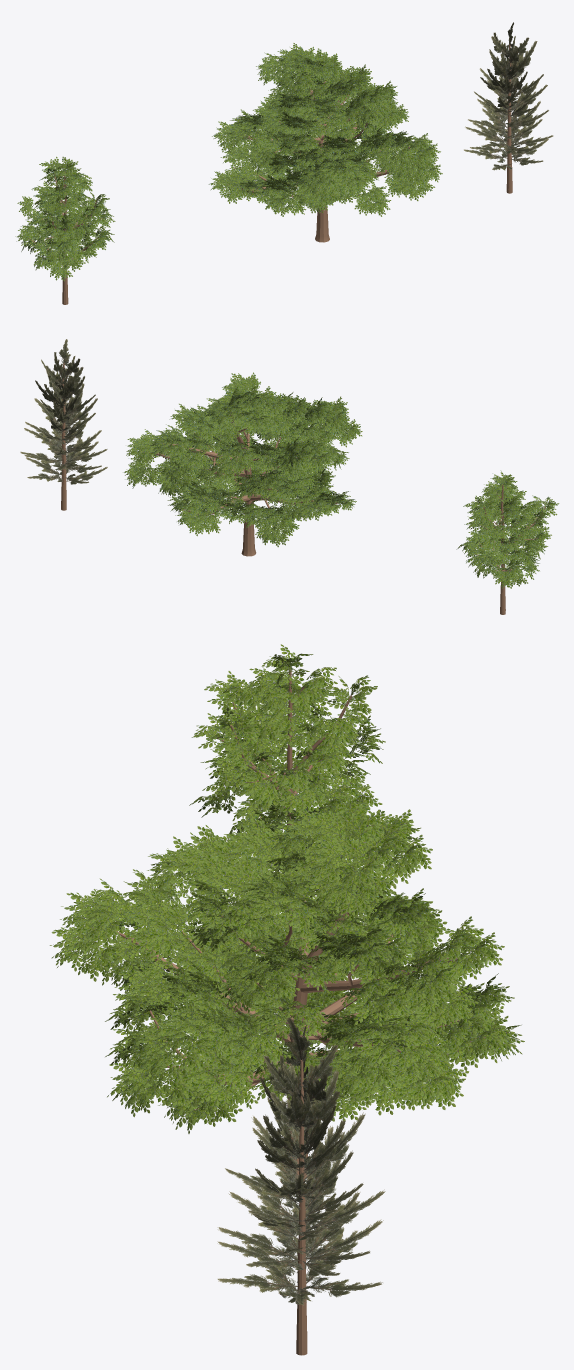
The model's file is 3 Trees Test FBX.fbx.
3 views of the same model, one above another, from view 1: azimuth 30°, elevation 25°; view 2: azimuth 150°, elevation 25°; view 3: azimuth 270°, elevation 25° (orthographic). The views are drawn at different scales.
Parts seen in each view (by area): view 1: Leaves_Large135, Large_Tree_Trunk, Leaves_Large165, Leaves_Large229, Leaves_Large190, Leaves_Large236, Leaves_Large155, Leaves_Large163, Leaves_Large178, Leaves_Large157, Leaves_Large194, Leaves_Large249 (+32 smaller); view 2: Leaves_Large135, Large_Tree_Trunk, Leaves_Large187, Leaves_Large215, Leaves_Large172, Leaves_Large166, Leaves_Large179, Leaves_Large169, Leaves_Large259, Leaves_Large260, Leaves_Large209, Leaves_Large201 (+33 smaller); view 3: Leaves_Large135, Large_Tree_Trunk, Leaves_Large200, Leaves_Large243, Leaves_Large161, Leaves_Large170, Leaves_Large166, Leaves_Large201, Leaves_Large160, Leaves_Large157, Leaves_Large218, Leaves_Large234 (+44 smaller).
Part boxes in pixels (bbox=[...]): Leaves_Large135: bbox=[15, 156, 115, 281]; Large_Tree_Trunk: bbox=[227, 63, 409, 242]; Leaves_Large165: bbox=[373, 144, 418, 177]; Leaves_Large229: bbox=[353, 182, 391, 216]; Leaves_Large190: bbox=[208, 165, 246, 203]; Leaves_Large236: bbox=[294, 182, 339, 213]; Leaves_Large155: bbox=[275, 69, 317, 95]; Leaves_Large163: bbox=[389, 173, 435, 201]; Leaves_Large178: bbox=[227, 118, 267, 149]; Leaves_Large157: bbox=[319, 155, 362, 181]; Leaves_Large194: bbox=[262, 189, 306, 216]; Leaves_Large249: bbox=[277, 132, 320, 156]; Leaves_Large135: bbox=[456, 470, 559, 588]; Large_Tree_Trunk: bbox=[144, 412, 337, 556]; Leaves_Large187: bbox=[255, 512, 299, 547]; Leaves_Large215: bbox=[213, 450, 258, 477]; Leaves_Large172: bbox=[180, 503, 221, 536]; Leaves_Large166: bbox=[126, 429, 158, 467]; Leaves_Large179: bbox=[276, 437, 312, 474]; Leaves_Large169: bbox=[123, 458, 161, 488]; Leaves_Large259: bbox=[154, 461, 195, 495]; Leaves_Large260: bbox=[180, 407, 218, 443]; Leaves_Large209: bbox=[266, 477, 310, 500]; Leaves_Large201: bbox=[150, 430, 191, 456]; Leaves_Large135: bbox=[189, 644, 385, 852]; Large_Tree_Trunk: bbox=[116, 856, 508, 1178]; Leaves_Large200: bbox=[304, 857, 395, 917]; Leaves_Large243: bbox=[125, 889, 197, 961]; Leaves_Large161: bbox=[179, 1043, 258, 1110]; Leaves_Large170: bbox=[438, 999, 514, 1070]; Leaves_Large166: bbox=[354, 1023, 439, 1071]; Leaves_Large201: bbox=[432, 916, 504, 984]; Leaves_Large160: bbox=[131, 1017, 213, 1075]; Leaves_Large157: bbox=[60, 878, 129, 948]; Leaves_Large218: bbox=[181, 879, 266, 938]; Leaves_Large234: bbox=[218, 961, 300, 1012].
Size of the model in its own units: 54.97 by 17.83 by 21.94.
Materials: 2 (1 with a texture image).
